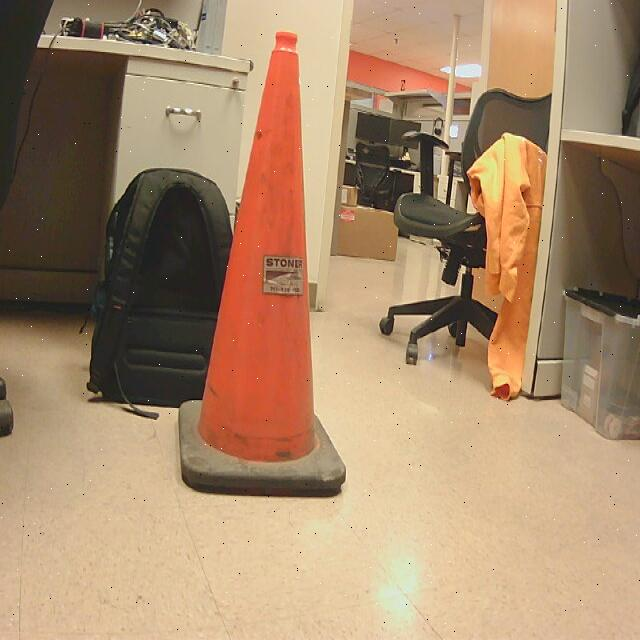traffic cone: (179, 32, 348, 501)
